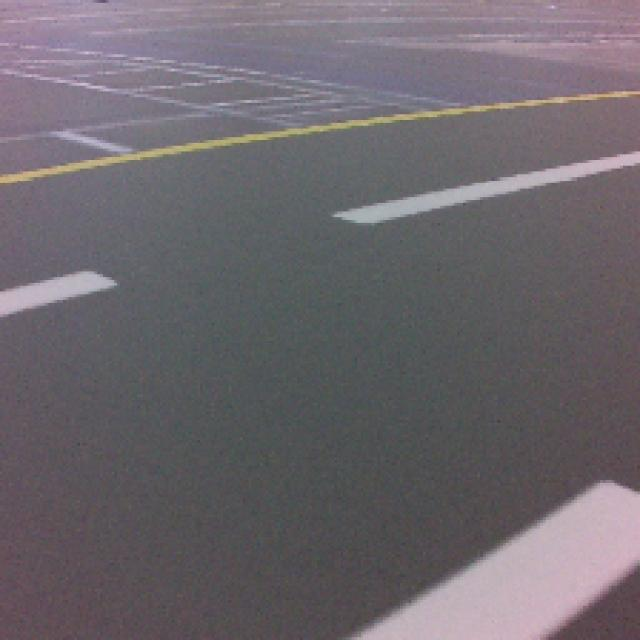Guard rail: (357, 481, 640, 640)
